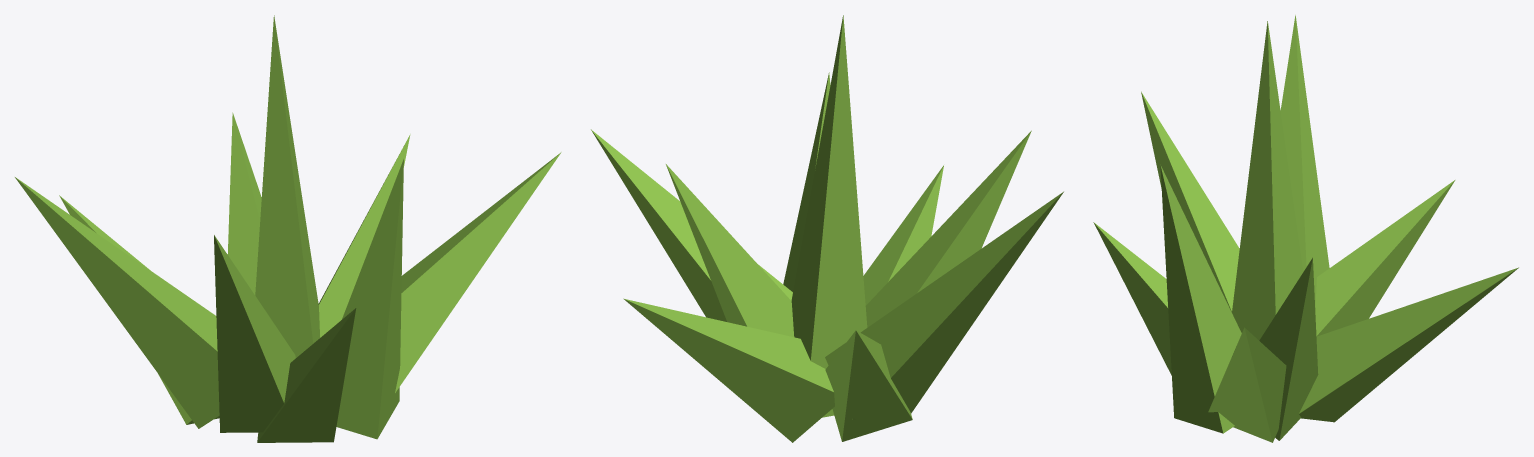
Rendered from grass_02.obj.
3 views of the same model, side by side, from view 1: azimuth 30°, elevation 25°; view 2: azimuth 150°, elevation 25°; view 3: azimuth 270°, elevation 25° (orthographic). The views are drawn at different scales.
Bounding box in the file's own units: 0.1436 × 0.1118 × 0.1094.
